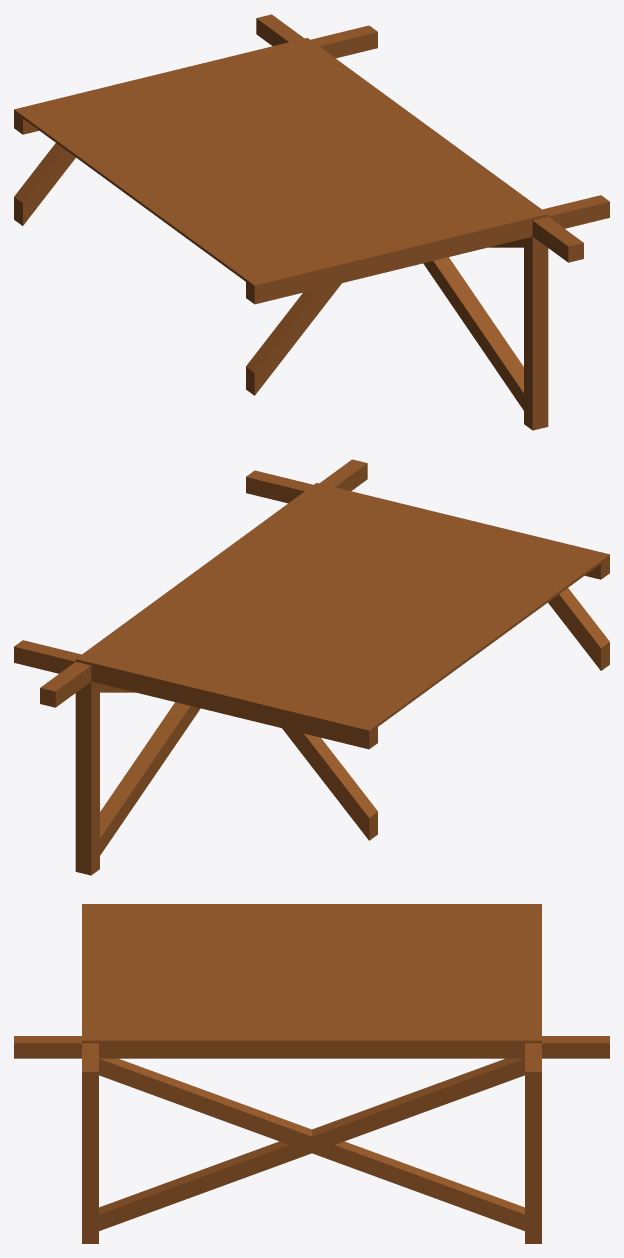
The model's file is Buildings_Wooden_Platform_02.fbx.
3 views of the same model, one above another, from view 1: azimuth 30°, elevation 25°; view 2: azimuth 150°, elevation 25°; view 3: azimuth 270°, elevation 25° (orthographic). The views are drawn at different scales.
Parts seen in each view (by area): view 1: Model; view 2: Model; view 3: Model.
Part boxes in pixels (x1,y1,x2,y2): Model: (14,14,609,430); Model: (14,459,609,875); Model: (14,904,609,1243).
Bounding box in the file's own units: 997 × 571 × 1517.
